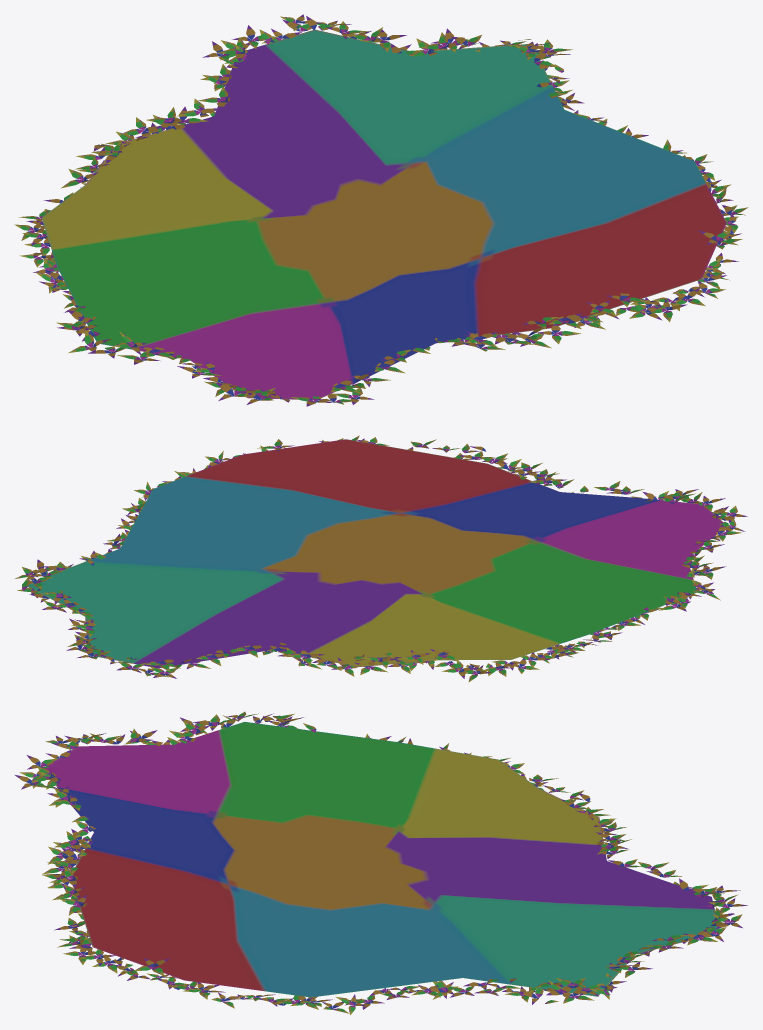
The model's file is SM_ENV_KNFRST_Shadow_A.FBX.
The picture shows the model from 3 angles, top to bottom: view 1: azimuth 30°, elevation 25°; view 2: azimuth 150°, elevation 25°; view 3: azimuth 270°, elevation 25°; orthographic projection. The views are drawn at different scales.
Visible parts, largest first — view 1: SM_ENV_KNFRST_Shadow_A; view 2: SM_ENV_KNFRST_Shadow_A; view 3: SM_ENV_KNFRST_Shadow_A.
Boxes of the visible parts, box(x1,y1,x2,y2) form: SM_ENV_KNFRST_Shadow_A: box(14, 14, 748, 406); SM_ENV_KNFRST_Shadow_A: box(15, 435, 747, 681); SM_ENV_KNFRST_Shadow_A: box(15, 711, 747, 1014).
Bounding box in the file's own units: 1916 × 87.89 × 2000.
